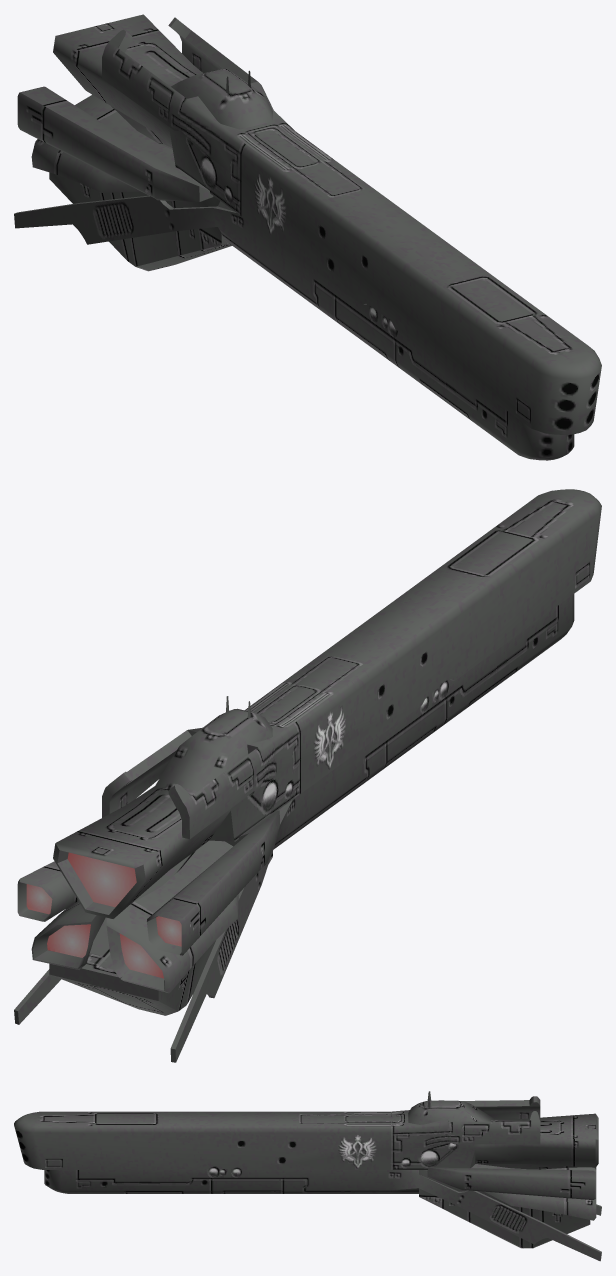
The model's file is empire_battleship_fast.obj.
3 renders of one model, top to bottom at view 1: azimuth 30°, elevation 25°; view 2: azimuth 150°, elevation 25°; view 3: azimuth 270°, elevation 25°, orthographic. The views are drawn at different scales.
Visible parts, largest first — view 1: empire_battleship_fast; view 2: empire_battleship_fast; view 3: empire_battleship_fast.
Boxes of the visible parts, x1,y1,x2,y2 form: empire_battleship_fast: (14,14,601,460); empire_battleship_fast: (14,489,601,1062); empire_battleship_fast: (14,1091,601,1261).
Size of the model in its own units: 69.83 by 100 by 356.
